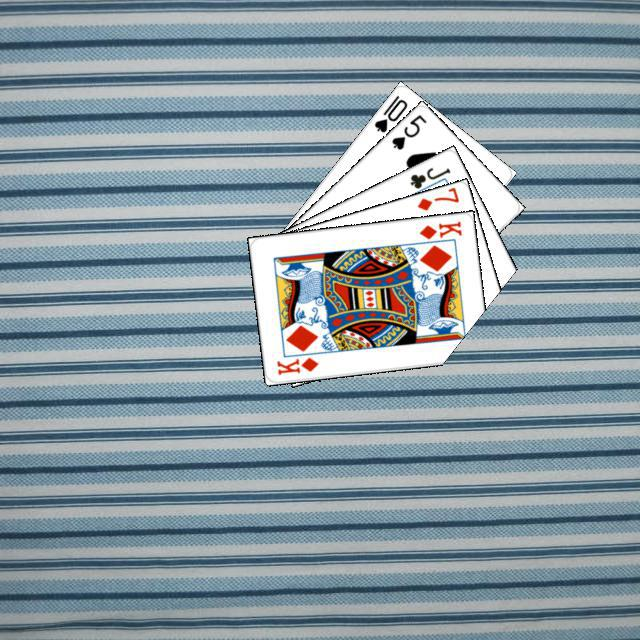10s: (369, 90, 409, 134)
5s: (387, 109, 428, 151)
7d: (412, 183, 461, 212)
Jc: (405, 162, 452, 191)
Kd: (414, 216, 463, 241), (272, 352, 320, 376)
